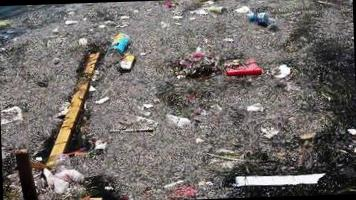road: (0, 0, 356, 200), (226, 63, 263, 76)
trash: (47, 52, 99, 166), (236, 173, 325, 186), (226, 63, 263, 76), (110, 33, 131, 53), (84, 52, 100, 74), (120, 52, 135, 70), (249, 13, 269, 26), (274, 64, 290, 78), (261, 127, 279, 139), (256, 13, 268, 26), (247, 103, 264, 112), (208, 6, 226, 14), (235, 6, 251, 13)
